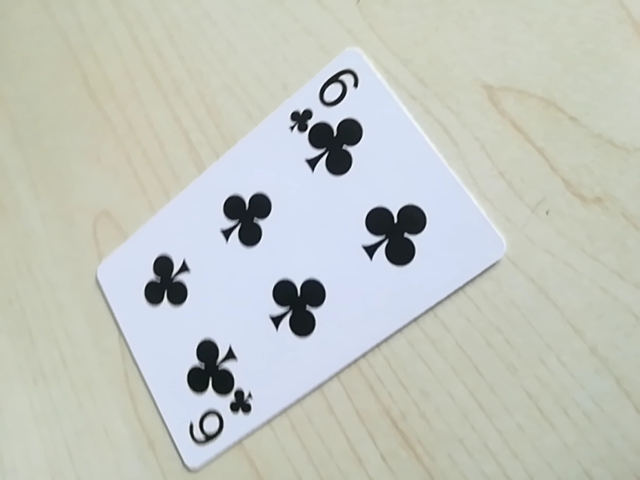mh 6: (179, 389, 254, 460), (292, 60, 365, 128)
